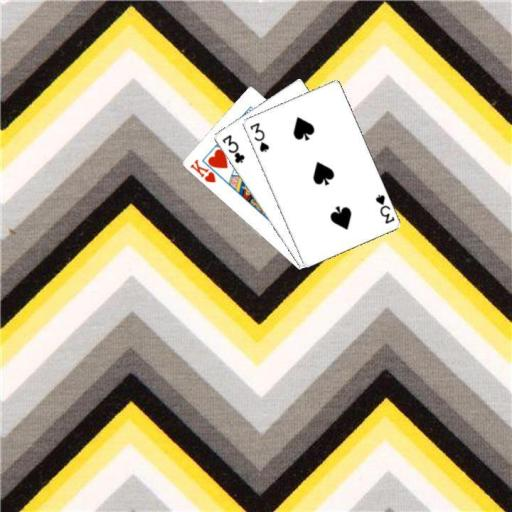3C: (218, 132, 246, 165)
3S: (246, 120, 270, 154), (372, 192, 395, 226)
KH: (186, 156, 217, 184)
